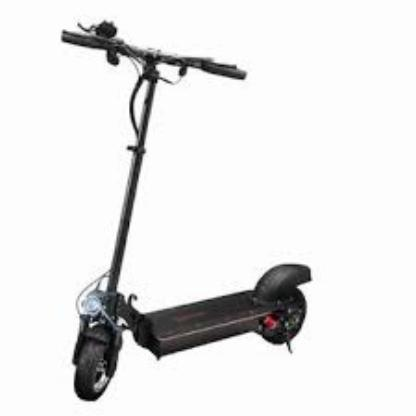bike: (67, 17, 315, 401), (71, 263, 313, 402)
